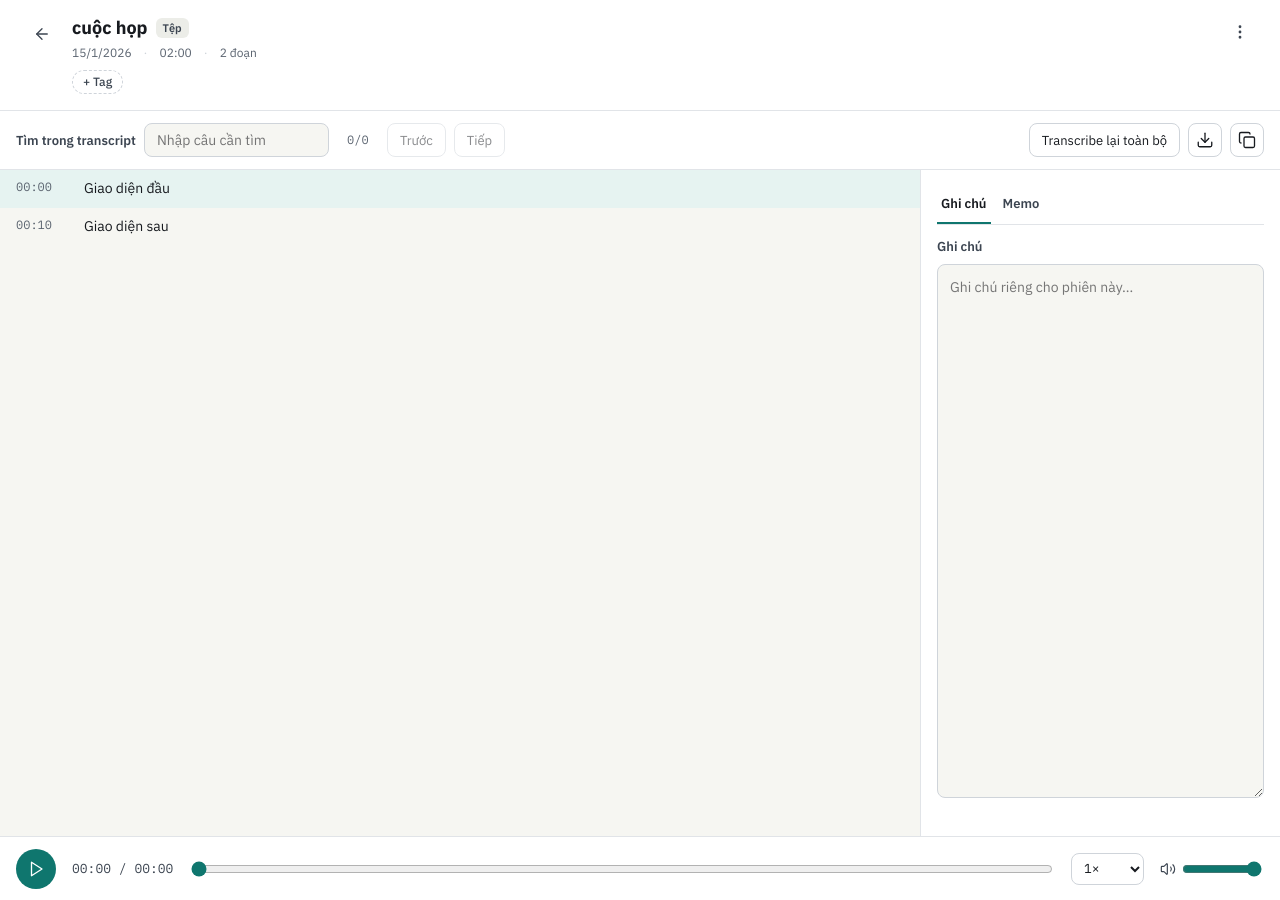
Test: Session route › searches the selected transcript, highlights matches, and cycles forward and backward
Type "  giao   diện  " into the search field labelled "Tìm trong transcript". click: {"x": 236, "y": 140}
box: [144,123,329,157]
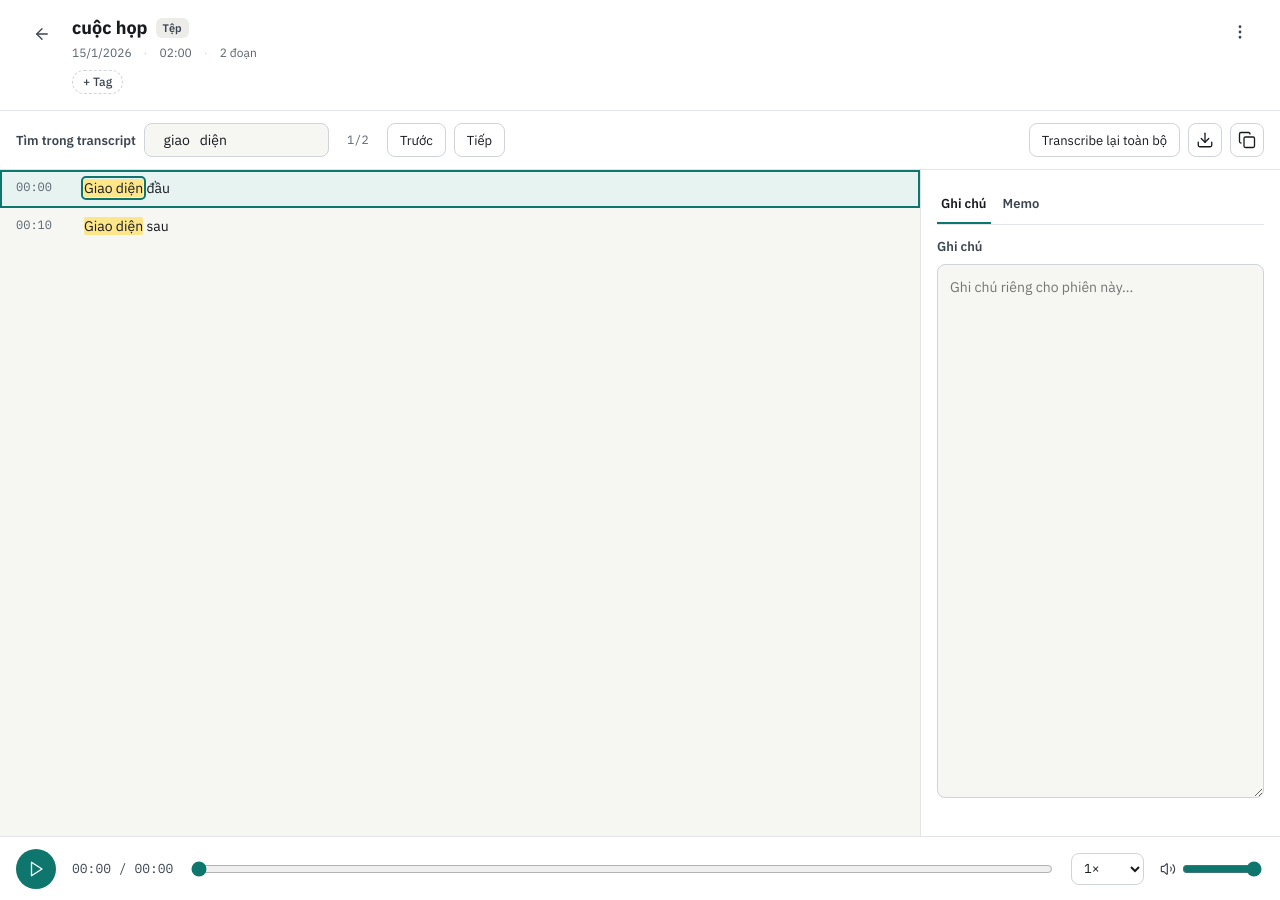
Now the text "1/2" is shown, box [347,132,369,147]
Click the button "Tiếp". click: {"x": 480, "y": 140}
box: [454,123,505,157]
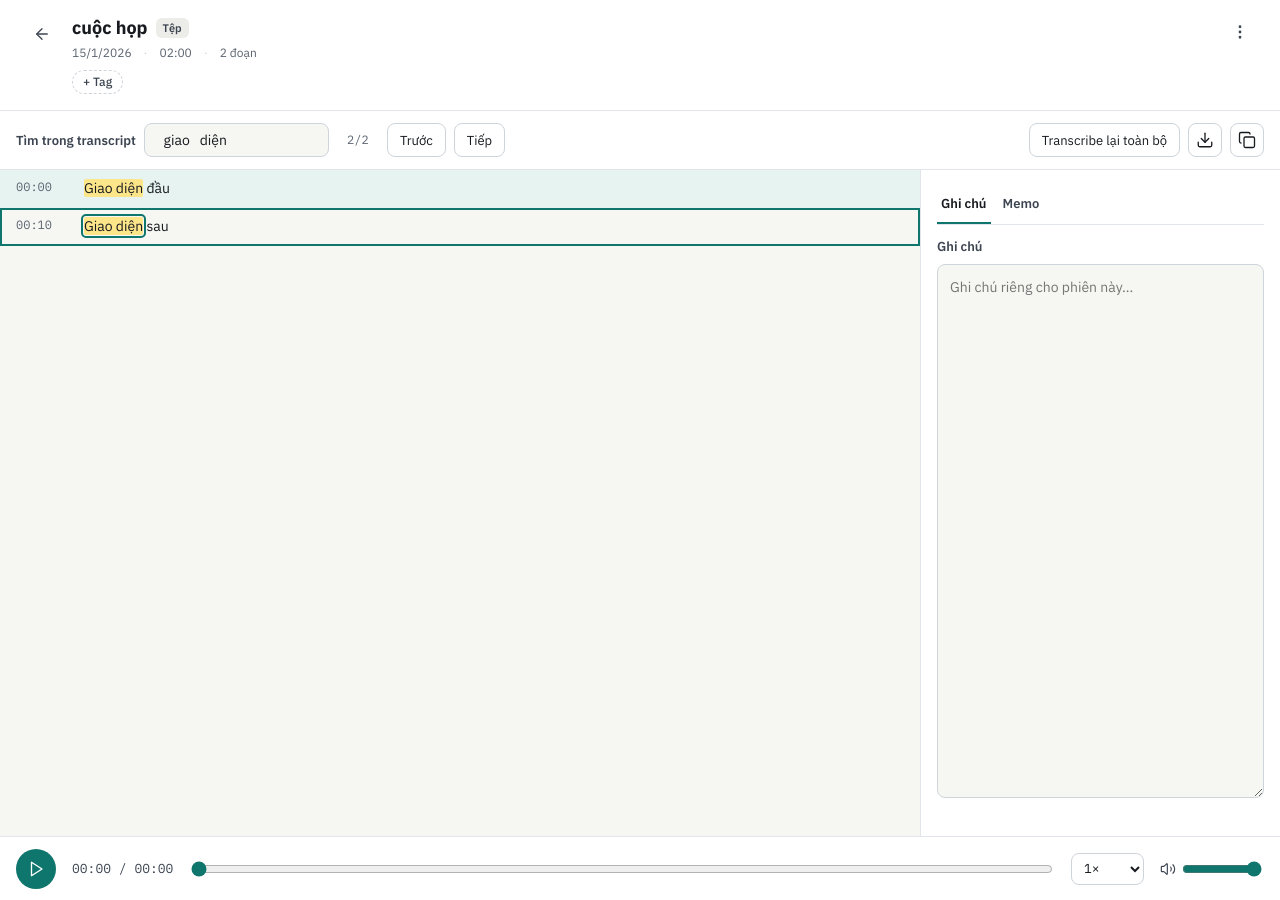
Now the text "2/2" is shown, box [347,132,369,147]
Press Enter in the search field labelled "Tìm trong transcript", box [144,123,329,157]
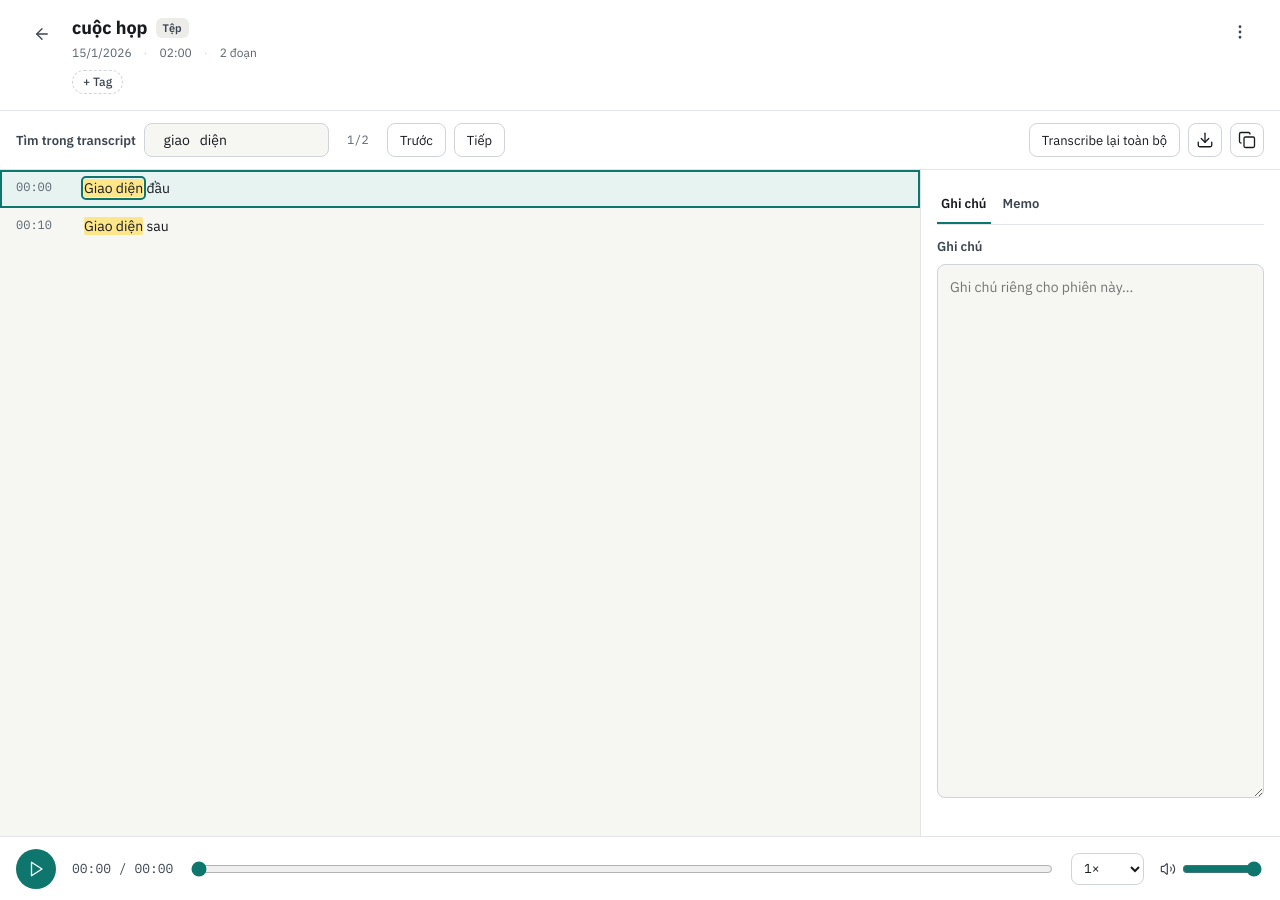
Now the text "1/2" is shown, box [347,132,369,147]
Press Enter in the search field labelled "Tìm trong transcript", box [144,123,329,157]
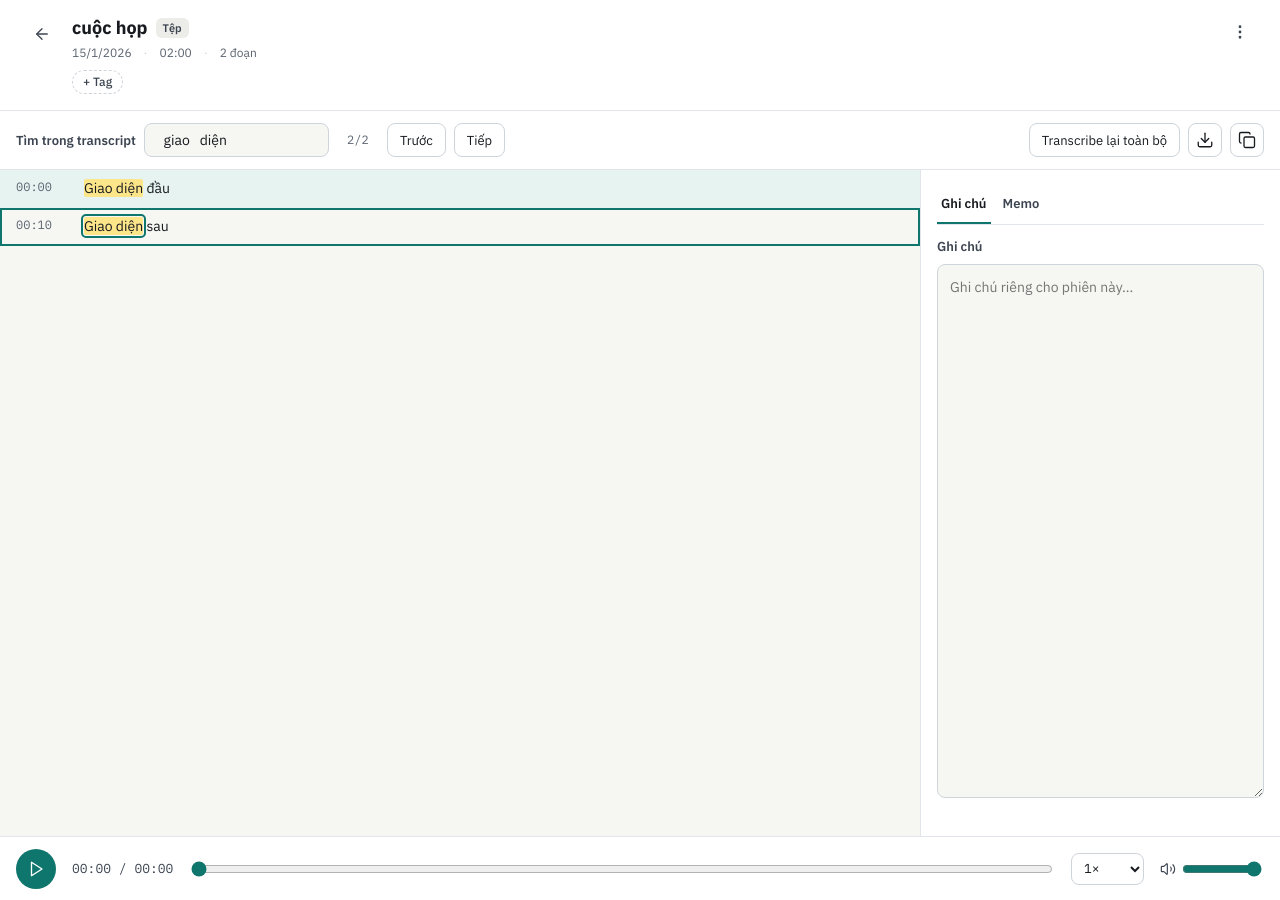
Now the text "2/2" is shown, box [347,132,369,147]
Click the button "Trước". click: {"x": 416, "y": 140}
box: [387,123,446,157]
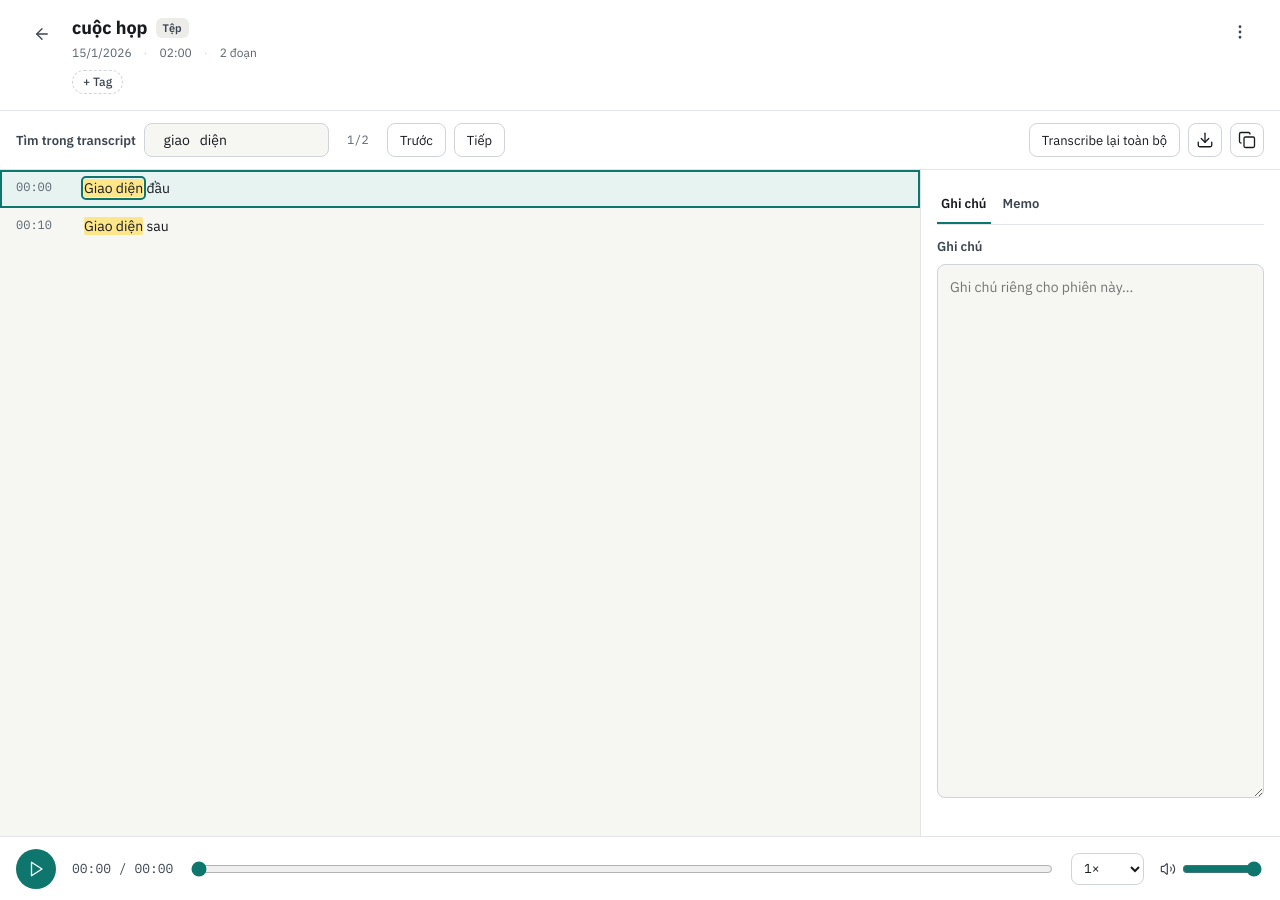
Now the text "1/2" is shown, box [347,132,369,147]
